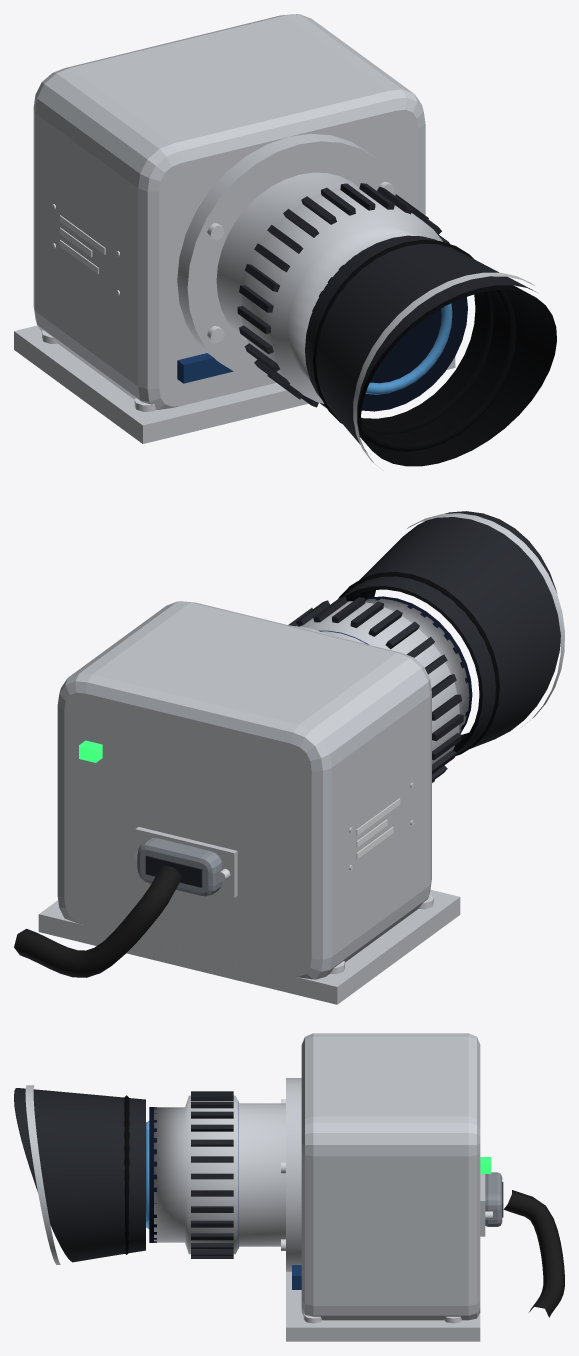
The model's file is inst-camera.glb.
The picture shows the model from 3 angles, top to bottom: view 1: azimuth 30°, elevation 25°; view 2: azimuth 150°, elevation 25°; view 3: azimuth 270°, elevation 25°; orthographic projection. The views are drawn at different scales.
Visible parts, largest first — view 1: electronics, lens-barrel, sunshade, sunshade-inner, lens-flange, bracket, sunshade-vanes, focus-knurl, lens-glass, sunshade-lip, lens-coating, board-edge (+2 smaller); view 2: electronics, sunshade, bracket, lens-barrel, harness, focus-knurl, conn-shell, sunshade-vanes, conn-flange, sunshade-lip, sunshade-inner, label-text (+2 smaller); view 3: electronics, sunshade, lens-barrel, bracket, focus-knurl, lens-flange, harness, sunshade-lip, conn-shell, lens-glass, sunshade-vanes, lens-coating.
Part boxes in pixels (x1,y1,x2,y2): electronics: (33,14,425,409); lens-barrel: (216,172,442,403); sunshade: (305,235,535,453); sunshade-inner: (357,285,556,466); lens-flange: (177,133,404,380); bracket: (14,325,455,443); sunshade-vanes: (313,239,516,452); focus-knurl: (237,183,449,408); lens-glass: (312,255,467,411); sunshade-lip: (353,272,534,470); lens-coating: (365,303,452,394); board-edge: (177,353,233,383); electronics: (57,601,431,979); sunshade: (343,511,560,753); bracket: (38,889,460,1004); lens-barrel: (296,598,469,764); harness: (14,865,182,977); focus-knurl: (288,597,463,782); conn-shell: (137,837,222,896); sunshade-vanes: (338,571,499,755); conn-flange: (135,827,237,897); sunshade-lip: (407,513,564,726); sunshade-inner: (346,586,482,750); label-text: (356,798,400,859); electronics: (301,1033,480,1320); sunshade: (14,1088,145,1262); lens-barrel: (154,1095,285,1254); bracket: (286,1272,480,1341); focus-knurl: (191,1091,233,1258); lens-flange: (286,1078,301,1271); harness: (503,1190,564,1317); sunshade-lip: (25,1085,60,1264); conn-shell: (485,1172,502,1226); lens-glass: (149,1107,156,1242); sunshade-vanes: (124,1095,129,1254); lens-coating: (146,1121,149,1228).
Size of the model in its own units: 0.07 by 0.059 by 0.1418.
